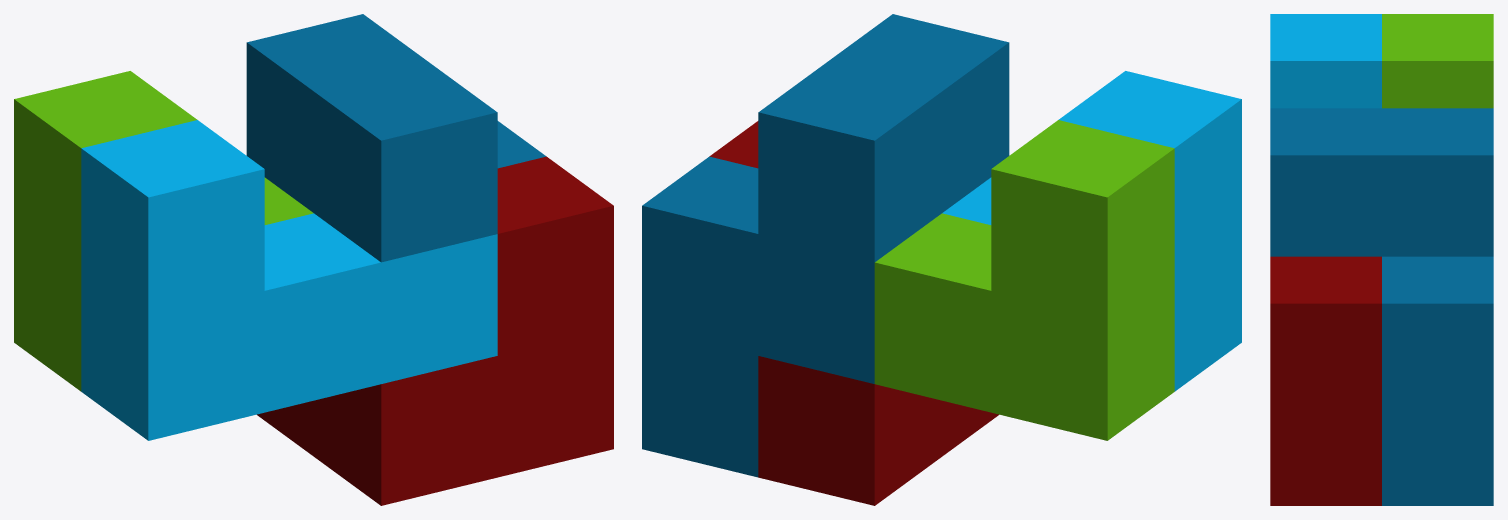
The picture shows the model from 3 angles, left to right: view 1: azimuth 30°, elevation 25°; view 2: azimuth 150°, elevation 25°; view 3: azimuth 270°, elevation 25°; orthographic projection. The views are drawn at different scales.
Visible parts, largest first — view 1: mergedBlocks(Clone); view 2: mergedBlocks(Clone); view 3: mergedBlocks(Clone).
Part boxes in pixels (x1=…): mergedBlocks(Clone): x1=14, y1=14, x2=613, y2=505; mergedBlocks(Clone): x1=642, y1=14, x2=1241, y2=505; mergedBlocks(Clone): x1=1270, y1=14, x2=1493, y2=505.
Size of the model in its own units: 4 by 3 by 2.
Materials: 4 (4 with a texture image).
